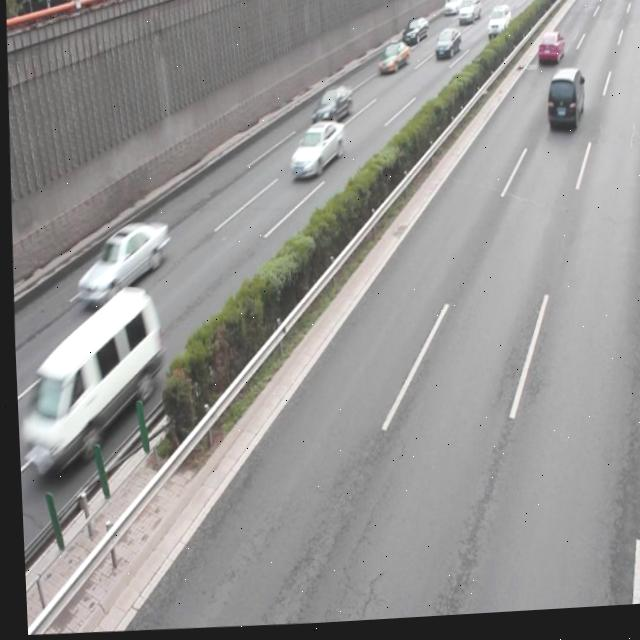car: (71, 218, 169, 309), (285, 121, 343, 184), (307, 87, 351, 129)
truck: (29, 284, 161, 477), (542, 71, 584, 138)
